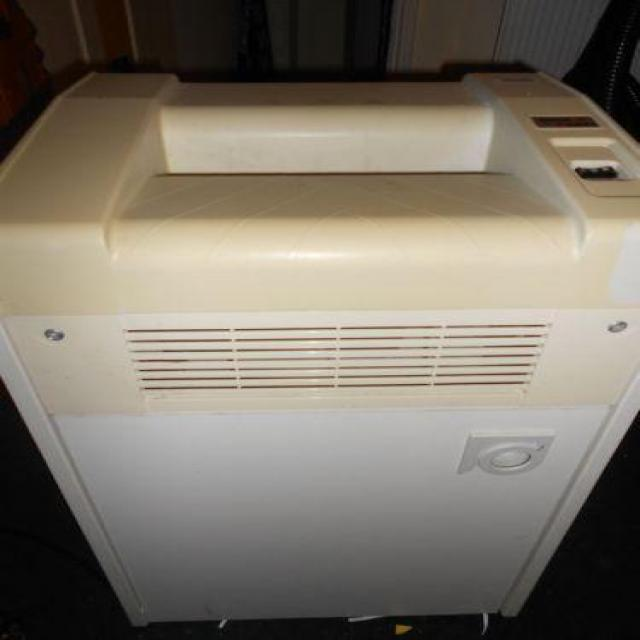palette: (2, 66, 640, 618)
